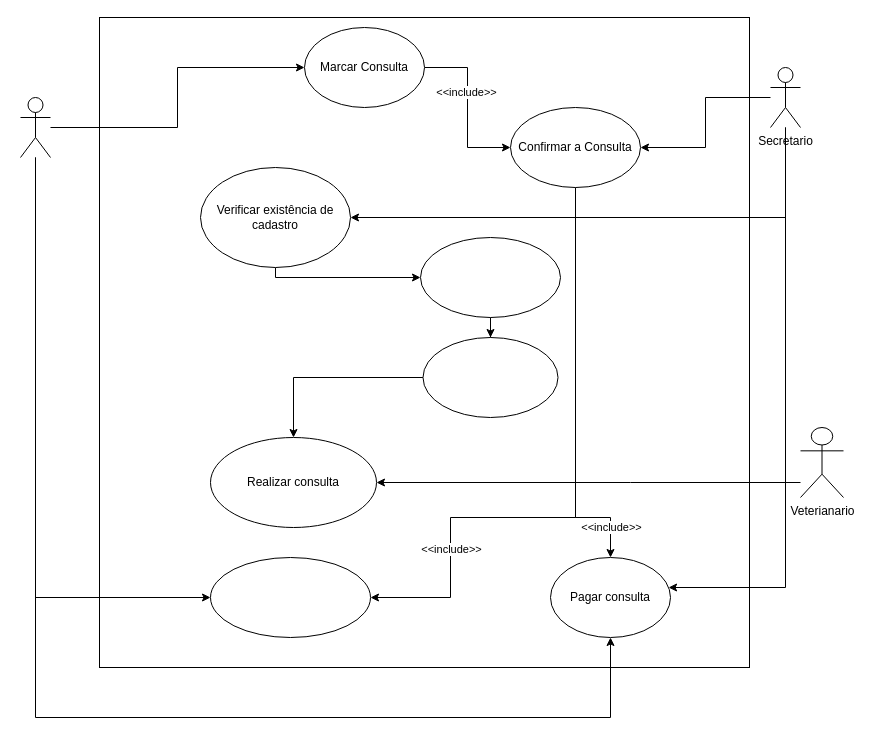
Image size: 871x743. Some labels were removed from this diagram. The centre of each missing label's shape, as x and y in pixels:
Cancelar Consulta: point 290,597
Cliente: point 35,127
Manutenção do cadastro do anlimal: point 490,377
Manutenção do cadastro do cliente: point 490,277
